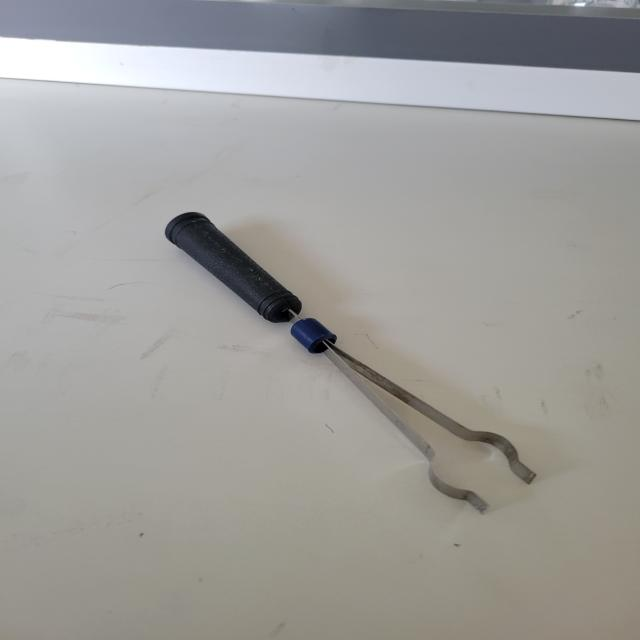TestTube_Holder: (142, 180, 577, 550)
